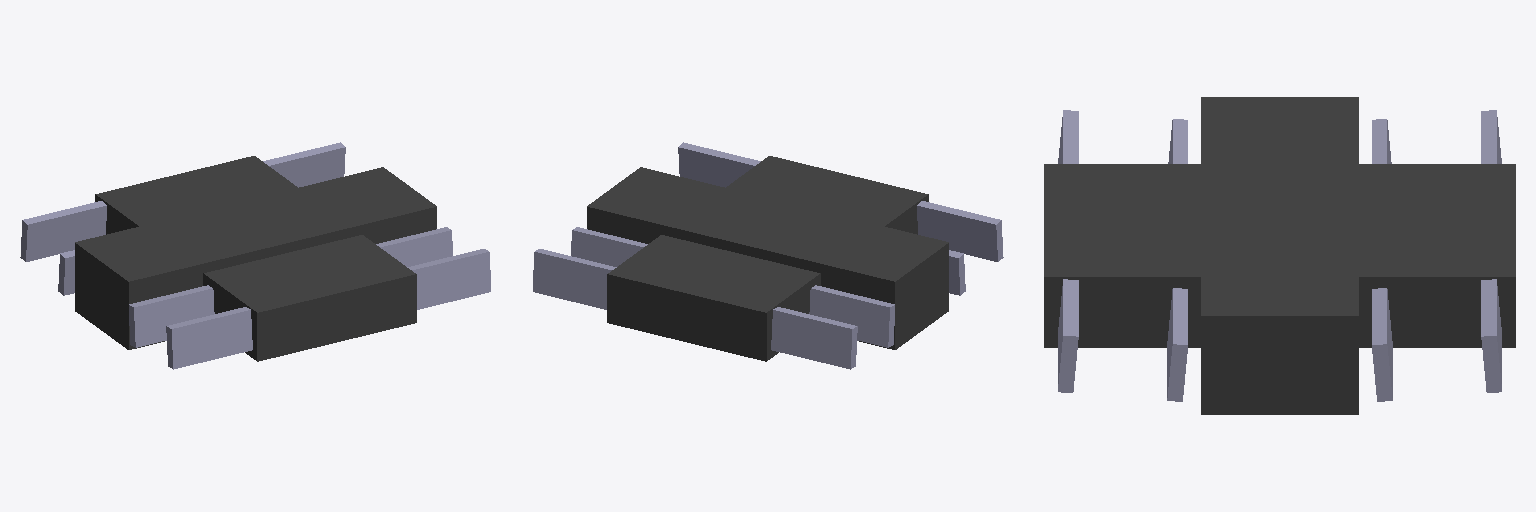
The robot description file, URDF, robot "quadruped":
<?xml version="1.0" ?>
<!-- ======================================================================= -->
<!--LICENSE:                                                                 -->
<!--Copyright (c) 2017, [author]                                        -->
<!--Google Inc.                                                              -->
<!--All rights reserved.                                                     -->
<!--                                                                         -->
<!--Redistribution and use in source and binary forms, with or without       -->
<!--modification, are permitted provided that the following conditions are   -->
<!--met:                                                                     -->
<!--                                                                         -->
<!--1. Redistributions or derived work must retain this copyright notice,    -->
<!--   this list of conditions and the following disclaimer.                 -->
<!--                                                                         -->
<!--2. Redistributions in binary form must reproduce the above copyright     -->
<!--   notice, this list of conditions and the following disclaimer in the   -->
<!--   documentation and/or other materials provided with the distribution.  -->
<!--                                                                         -->
<!--THIS SOFTWARE IS PROVIDED BY THE COPYRIGHT [author] "AS  -->
<!--IS" AND ANY EXPRESS OR IMPLIED WARRANTIES, INCLUDING, BUT NOT LIMITED TO,-->
<!--THE IMPLIED WARRANTIES OF MERCHANTABILITY AND FITNESS FOR A PARTICULAR   -->
<!--PURPOSE ARE DISCLAIMED. IN NO EVENT SHALL THE COPYRIGHT [author]        -->
<!--CONTRIBUTORS BE LIABLE FOR ANY DIRECT, INDIRECT, INCIDENTAL, SPECIAL,    -->
<!--EXEMPLARY, OR CONSEQUENTIAL DAMAGES (INCLUDING, BUT NOT LIMITED TO,      -->
<!--PROCUREMENT OF SUBSTITUTE GOODS OR SERVICES; LOSS OF USE, DATA, OR       -->
<!--PROFITS; OR BUSINESS INTERRUPTION) HOWEVER CAUSED AND ON ANY THEORY OF   -->
<!--LIABILITY, WHETHER IN CONTRACT, STRICT LIABILITY, OR TORT (INCLUDING     -->
<!--NEGLIGENCE OR OTHERWISE) ARISING IN ANY WAY OUT OF THE USE OF THIS       -->
<!--SOFTWARE, EVEN IF ADVISED OF THE POSSIBILITY OF SUCH DAMAGE.             -->

<robot name="quadruped">
  <link name="base_chassis_link">
    <visual>
      <geometry>
        <box size=".33 0.10 .07"/>
      </geometry>
      <material name="black">
        <color rgba="0.3 0.3 0.3 1"/>
      </material>
    </visual>
    <visual>
			<origin rpy="0 0 0" xyz="0 0.10 0"/>
      <geometry>
        <box size=".17 0.10 .05"/>
      </geometry>
      <material name="black">
        <color rgba="0.3 0.3 0.3 1"/>
      </material>
    </visual>
		<visual>
			<origin rpy="0 0 0" xyz="0 -0.10 0"/>
      <geometry>
        <box size=".17 0.10 .05"/>
      </geometry>
      <material name="black">
        <color rgba="0.3 0.3 0.3 1"/>
      </material>
    </visual>

    <collision>
      <geometry>
       <box size=".33 0.10 .07"/>
      </geometry>
    </collision>
    <collision>
			<origin rpy="0 0 0" xyz="0 0.10 0"/>
      <geometry>
       <box size=".17 0.10 .05"/>
      </geometry>
    </collision>
    <collision>
			<origin rpy="0 0 0" xyz="0 -0.10 0"/>
      <geometry>
       <box size=".17 0.10 .05"/>
      </geometry>
    </collision>

    <inertial>
      <mass value="3"/>
      <inertia ixx="1.0" ixy="0.0" ixz="0.0" iyy="1.0" iyz="0.0" izz="1.0"/>
    </inertial>
  </link>

  <link name="chassis_right">
    <visual>
			<origin rpy="0 0 0" xyz="0 0.035 0"/>
      <geometry>
       <box size=".34 0.01 .04"/>
      </geometry>
			<material name="grey">
        <color rgba="0.65 0.65 0.75 1"/>
      </material>    </visual>
    <visual>
			<origin rpy="0 0 0" xyz="0 -0.035 0"/>
      <geometry>
       <box size=".34 0.01 .04"/>
      </geometry>
			<material name="grey">
        <color rgba="0.65 0.65 0.75 1"/>
      </material>    </visual>
    <collision>
			<origin rpy="0 0 0" xyz="0 0.035 0"/>
      <geometry>
       <box size=".34 0.01 .04"/>
      </geometry>
    </collision>
    <collision>
			<origin rpy="0 0 0" xyz="0 -0.035 0"/>
      <geometry>
       <box size=".34 0.01 .04"/>
      </geometry>
    </collision>
    <inertial>
      <mass value=".1"/>
      <inertia ixx="1.0" ixy="0.0" ixz="0.0" iyy="1.0" iyz="0.0" izz="1.0"/>
    </inertial>
  </link>

  <joint name="chassis_right_center" type="fixed">
    <axis xyz="0 0 1"/>
    <parent link="base_chassis_link"/>
    <child link="chassis_right"/>
    <origin rpy="-0.0872665 0 0" xyz="0.0 -0.10 0.0"/>
    <limit effort="100" velocity="100"/>
    <joint_properties damping="0.0" friction="0.0"/>
  </joint>

  <link name="chassis_left">
    <visual>
			<origin rpy="0 0 0" xyz="0 0.035 0"/>
      <geometry>
       <box size=".34 0.01 .04"/>
      </geometry>
			<material name="grey">
        <color rgba="0.65 0.65 0.75 1"/>
      </material>    </visual>
    <visual>
			<origin rpy="0 0 0" xyz="0 -0.035 0"/>
      <geometry>
       <box size=".34 0.01 .04"/>
      </geometry>
			<material name="grey">
        <color rgba="0.65 0.65 0.75 1"/>
      </material>    </visual>
    <collision>
			<origin rpy="0 0 0" xyz="0 0.035 0"/>
      <geometry>
       <box size=".34 0.01 .04"/>
      </geometry>
    </collision>
    <collision>
			<origin rpy="0 0 0" xyz="0 -0.035 0"/>
      <geometry>
       <box size=".34 0.01 .04"/>
      </geometry>
    </collision>
    <inertial>
      <mass value=".1"/>
      <inertia ixx="1.0" ixy="0.0" ixz="0.0" iyy="1.0" iyz="0.0" izz="1.0"/>
    </inertial>
  </link>

  <joint name="chassis_left_center" type="fixed">
    <axis xyz="0 0 1"/>
    <parent link="base_chassis_link"/>
    <child link="chassis_left"/>
    <origin rpy="0.0872665 0 0" xyz="0.0 0.10 0.0"/>
    <limit effort="100" velocity="100"/>
    <joint_properties damping="0.0" friction="0.0"/>
  </joint>

  
  
  <link name="motor_front_rightR_link">
    <visual>
      <geometry>
        <mesh filename="tmotor3.obj" scale="1 1 1"/>
      </geometry>
      <material name="white">
        <color rgba="1 1 1 1"/>
      </material>
    </visual>
    <collision>
      <geometry>
        <cylinder length="0.026" radius="0.0434"/>
      </geometry>
    </collision>
    <inertial>
      <mass value="0.25"/>
      <inertia ixx="1.0" ixy="0.0" ixz="0.0" iyy="1.0" iyz="0.0" izz="1.0"/>
    </inertial>
  </link>
  <joint name="motor_front_rightR_joint" type="continuous">
    <axis xyz="0 0 1"/>
    <parent link="chassis_right"/>
    <child link="motor_front_rightR_link"/>
    <origin rpy="1.57075 0 0" xyz="0.21 -0.025 0"/>
    <limit effort="100" velocity="100"/>
    <joint_properties damping="0.0" friction="0.0"/>
  </joint>

</robot>


--- Render facts (derived) ---
3 views of the same robot in one strip: view 1: azimuth 30°, elevation 25°; view 2: azimuth 150°, elevation 25°; view 3: azimuth 270°, elevation 25° (orthographic).
Robot: quadruped — 4 links, 3 joints (1 continuous, 2 fixed); root link base_chassis_link; default pose: every joint at zero.
Visible links, largest first — view 1: base_chassis_link, chassis_right, chassis_left; view 2: base_chassis_link, chassis_left, chassis_right; view 3: base_chassis_link, chassis_right, chassis_left.
Boxes of the visible links, x1=… form: base_chassis_link: x1=75, y1=156, x2=436, y2=361; chassis_right: x1=129, y1=227, x2=490, y2=369; chassis_left: x1=20, y1=142, x2=345, y2=295; base_chassis_link: x1=587, y1=156, x2=948, y2=361; chassis_left: x1=533, y1=227, x2=894, y2=369; chassis_right: x1=678, y1=142, x2=1003, y2=295; base_chassis_link: x1=1044, y1=97, x2=1515, y2=414; chassis_right: x1=1058, y1=110, x2=1187, y2=401; chassis_left: x1=1372, y1=110, x2=1501, y2=401.
Bounding box of the posed robot: 0.34 × 0.3 × 0.07 m (x, y, z).
0 mesh visuals loaded from 1 distinct referenced files (none loaded); not drawn: 1 (reference not matched to a file when rendering).